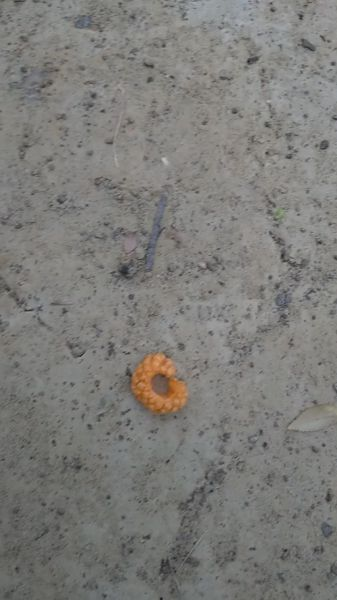eggs: (130, 351, 196, 421)
